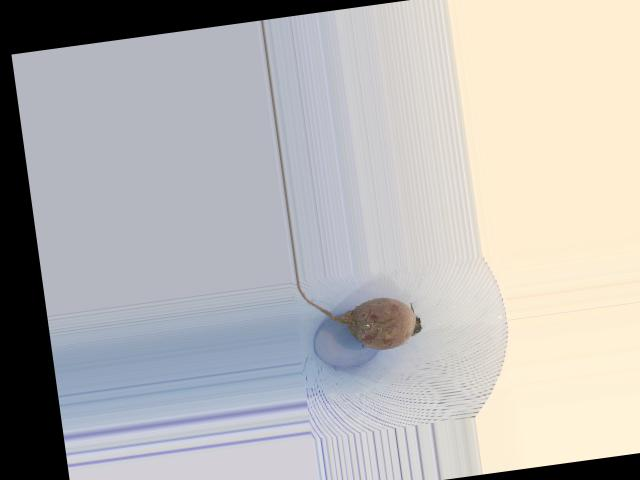beet: (297, 264, 425, 360)
